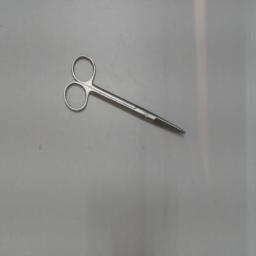Curved Mayo Scissors: (60, 50, 188, 136)
